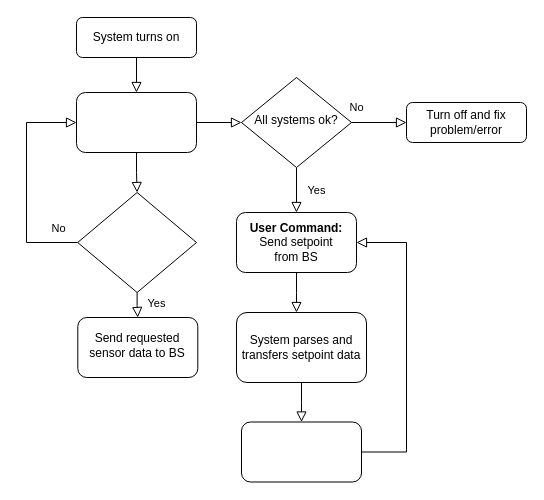
This 544x500 diagram has some shape labels left out. Here are the shapes that lost their labels. From the top down, the box of each, then its label:
(76, 92, 196, 152): Read drone sensor info/data
(77, 192, 196, 292): Have user requested sensor data?
(240, 421, 362, 482): Launch Fly to setpoint
